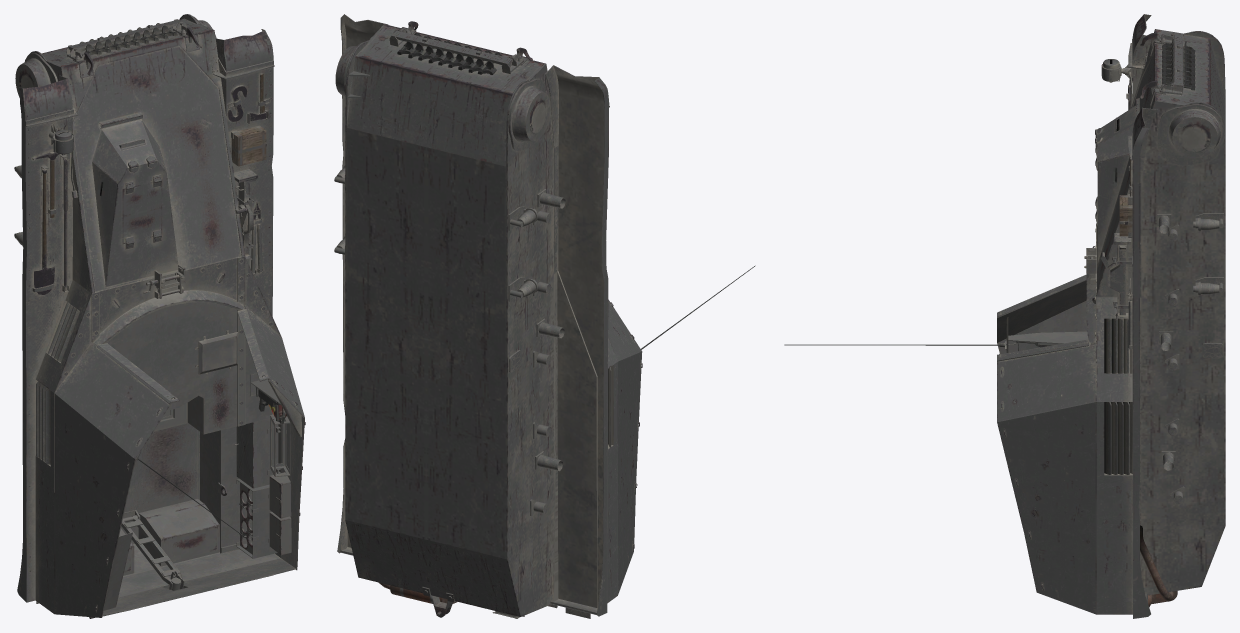
Rendered from Hull.glb.
The picture shows the model from 3 angles, left to right: view 1: azimuth 30°, elevation 25°; view 2: azimuth 150°, elevation 25°; view 3: azimuth 270°, elevation 25°; orthographic projection. The views are drawn at different scales.
Visible parts, largest first — view 1: set_0_group_0; view 2: set_0_group_0; view 3: set_0_group_0.
Part boxes in pixels (box(x1,y1,x2,y2)): set_0_group_0: box(14, 14, 305, 618); set_0_group_0: box(334, 14, 755, 618); set_0_group_0: box(784, 14, 1225, 618).
Size of the model in its own units: 2.32 by 4.86 by 3.72.
1 material, 1 textured.
